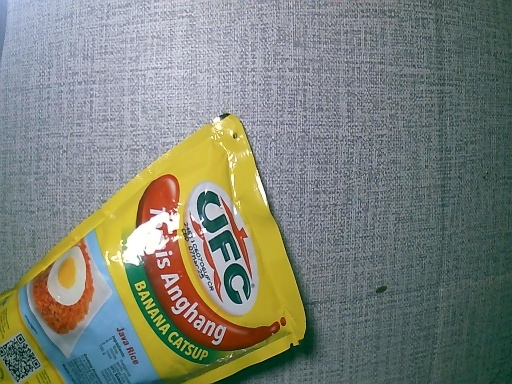plastic: (1, 117, 306, 384)
